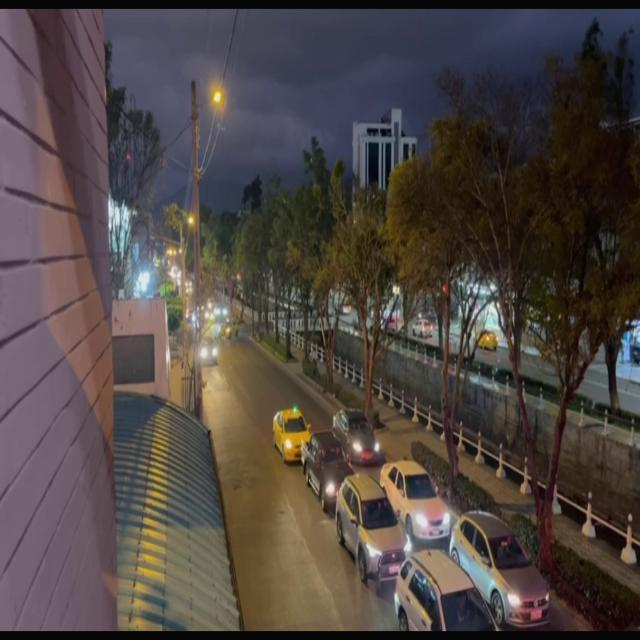CMT: (304, 437, 351, 501)
SED: (380, 459, 452, 540)
SUV: (401, 557, 492, 640), (334, 472, 399, 577)
